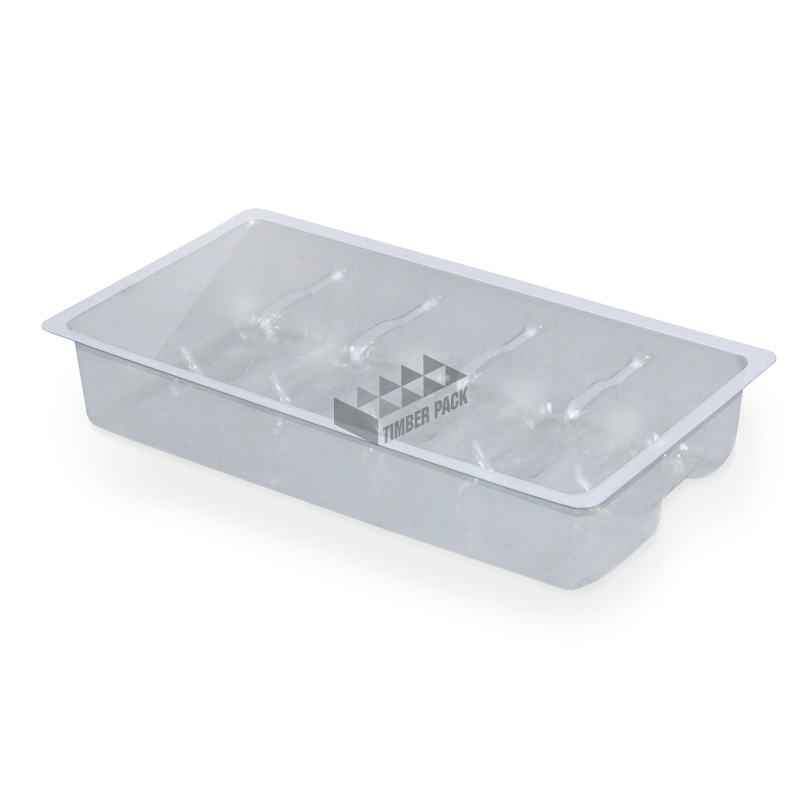PlasticBox: (30, 204, 781, 596)
